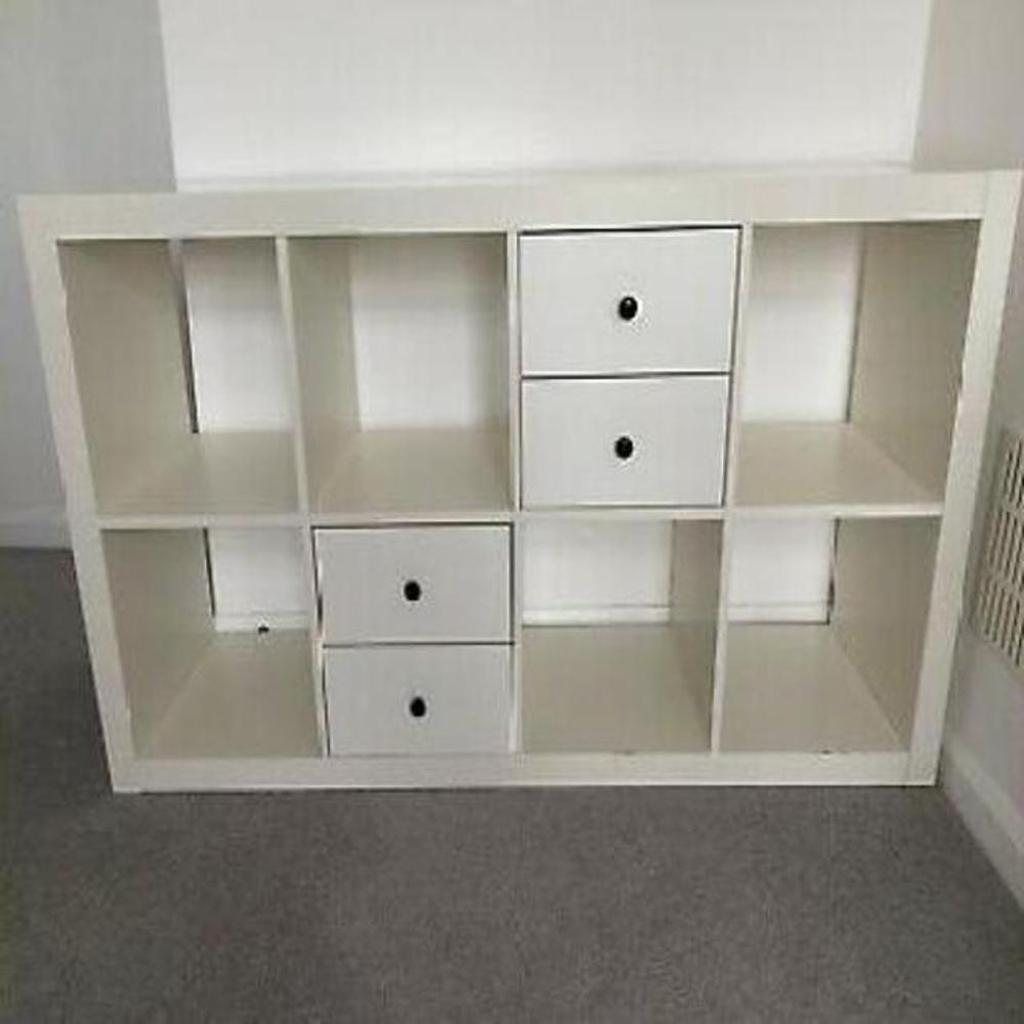lamp: (12, 153, 1022, 794)
